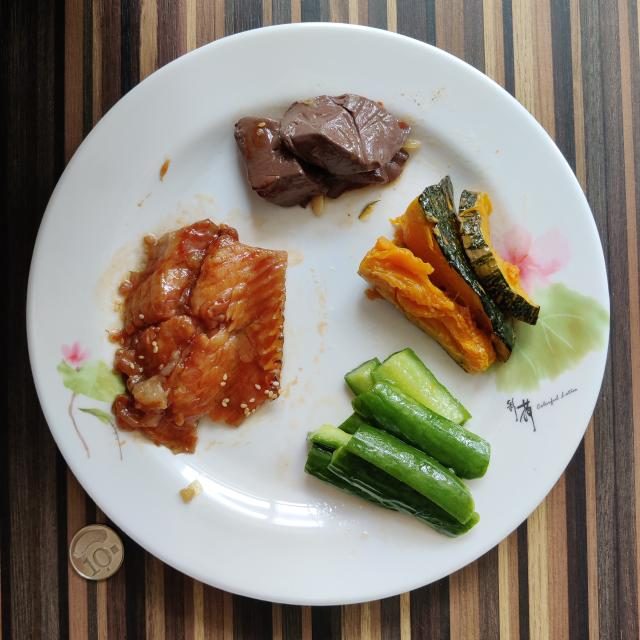Kabayaki sea bream fillet: (114, 220, 288, 452)
coin: (69, 525, 124, 580)
cucumber: (305, 349, 490, 538)
pig blood curd: (235, 94, 410, 206)
pumpkin: (359, 178, 540, 374)
